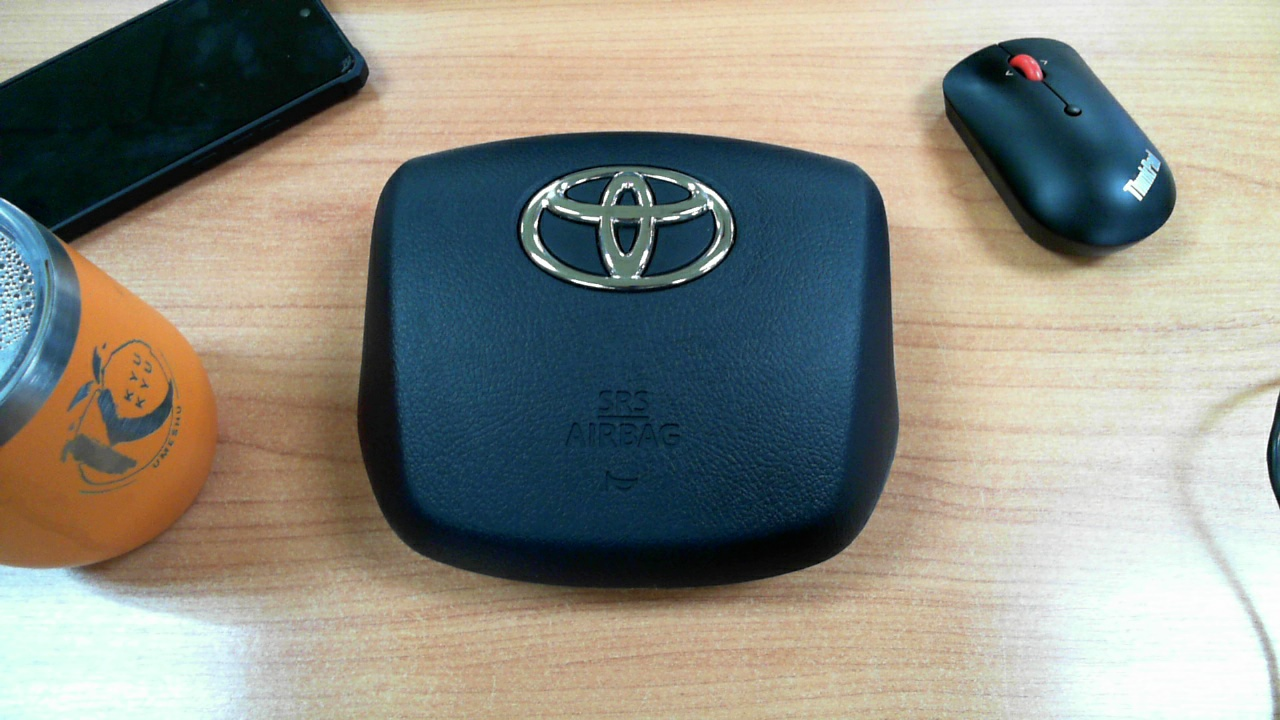Airbag: (316, 93, 932, 626)
